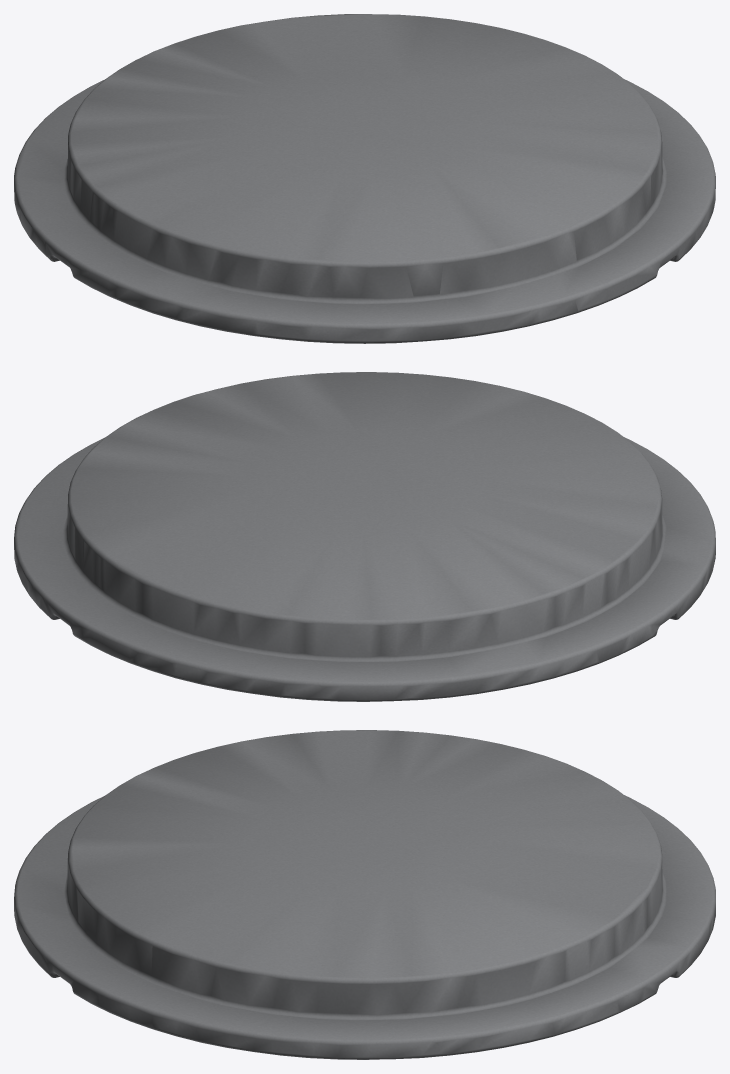
File: quarry-feed-disk.glb
3 renders of one model, top to bottom at view 1: azimuth 30°, elevation 25°; view 2: azimuth 150°, elevation 25°; view 3: azimuth 270°, elevation 25°, orthographic.
Visible parts, largest first — view 1: metal; view 2: metal; view 3: metal.
Boxes of the visible parts, x1,y1,x2,y2 form: metal: [14, 14, 715, 343]; metal: [14, 372, 715, 701]; metal: [14, 730, 715, 1059].
Bounding box in the file's own units: 0.6849 × 0.1169 × 0.6846.
1 material, 1 textured.
